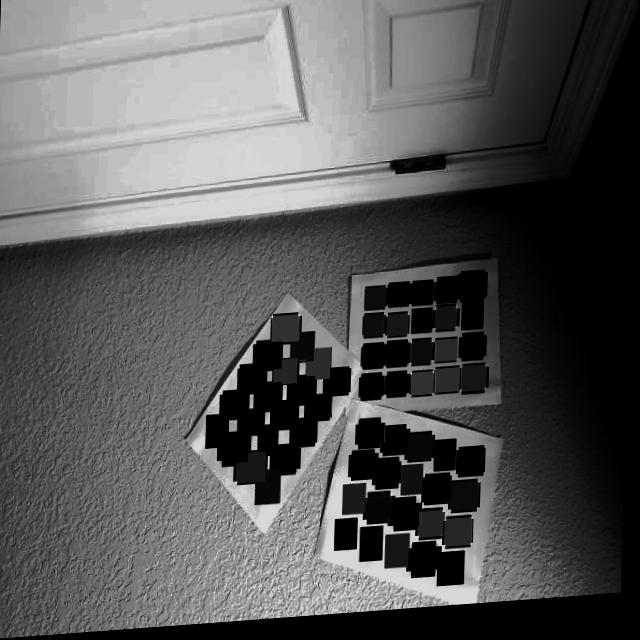qr_code: (440, 558, 467, 594), (451, 488, 482, 519), (237, 456, 268, 487), (412, 550, 442, 582), (258, 474, 283, 509), (459, 279, 488, 308), (446, 525, 475, 554), (393, 506, 422, 535), (221, 438, 250, 467), (255, 346, 284, 375), (388, 540, 412, 575), (367, 499, 395, 529), (362, 532, 385, 568), (308, 352, 332, 386), (207, 418, 231, 452), (459, 455, 488, 483), (256, 387, 284, 416), (273, 319, 301, 348), (426, 481, 453, 511), (351, 457, 379, 485), (239, 369, 267, 397), (383, 432, 410, 461), (462, 372, 489, 400), (325, 373, 352, 401), (273, 450, 300, 478), (292, 337, 316, 368), (337, 524, 360, 556), (376, 466, 403, 493), (290, 382, 317, 409), (222, 395, 249, 422), (420, 517, 446, 545), (409, 440, 435, 468), (345, 489, 368, 520), (292, 424, 318, 451), (274, 406, 300, 433), (436, 447, 458, 478), (359, 426, 385, 452), (307, 400, 333, 426), (463, 308, 485, 338), (404, 471, 425, 502), (260, 429, 281, 460), (436, 375, 462, 400), (462, 341, 486, 368), (436, 285, 461, 310), (386, 348, 411, 373), (361, 380, 386, 405), (240, 414, 265, 439), (275, 363, 299, 389), (411, 346, 434, 372), (412, 378, 436, 402), (363, 350, 387, 374), (436, 313, 459, 337), (412, 288, 435, 312), (388, 290, 412, 313), (387, 379, 410, 403), (436, 346, 459, 369), (387, 320, 410, 343), (365, 293, 388, 315), (413, 315, 433, 340), (365, 320, 386, 343)
